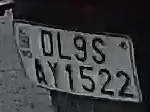1: (65, 64, 77, 93)
2: (115, 70, 135, 103), (97, 67, 116, 98)
5: (77, 66, 98, 95)
9: (72, 29, 90, 65)
A: (32, 57, 49, 88)
D: (37, 30, 55, 59)
L: (56, 32, 73, 61)
S: (90, 35, 107, 67)
Y: (48, 60, 62, 89)
